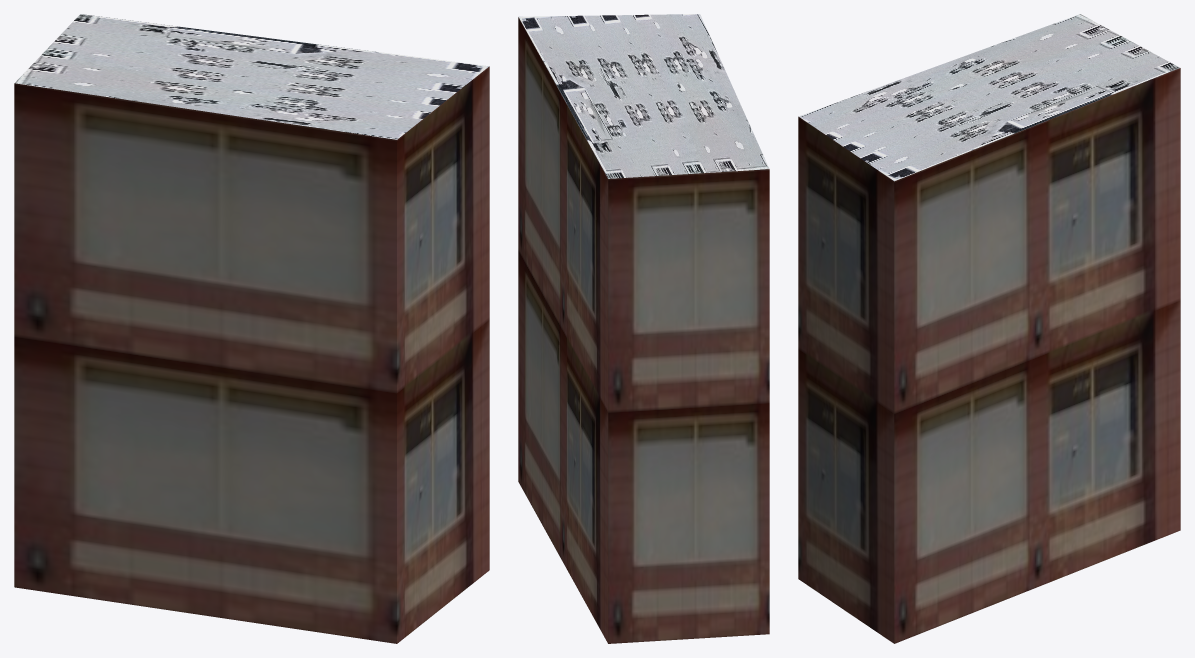
Rendered from ResTex__1502.fbx.
The picture shows the model from 3 angles, left to right: view 1: azimuth 30°, elevation 25°; view 2: azimuth 150°, elevation 25°; view 3: azimuth 270°, elevation 25°; orthographic projection. The views are drawn at different scales.
Visible parts, largest first — view 1: CityEngineMaterial_13_m, CityEngineMaterial_4_m; view 2: CityEngineMaterial_13_m, CityEngineMaterial_4_m; view 3: CityEngineMaterial_13_m, CityEngineMaterial_4_m.
Part boxes in pixels (x1,y1,x2,y2): CityEngineMaterial_13_m: (14,66,489,643); CityEngineMaterial_4_m: (15,14,488,139); CityEngineMaterial_13_m: (518,17,769,643); CityEngineMaterial_4_m: (518,14,769,178); CityEngineMaterial_13_m: (798,68,1180,643); CityEngineMaterial_4_m: (799,14,1179,181).
Bounding box in the file's own units: 4.65 × 6 × 4.49.
2 materials, 2 textured.
